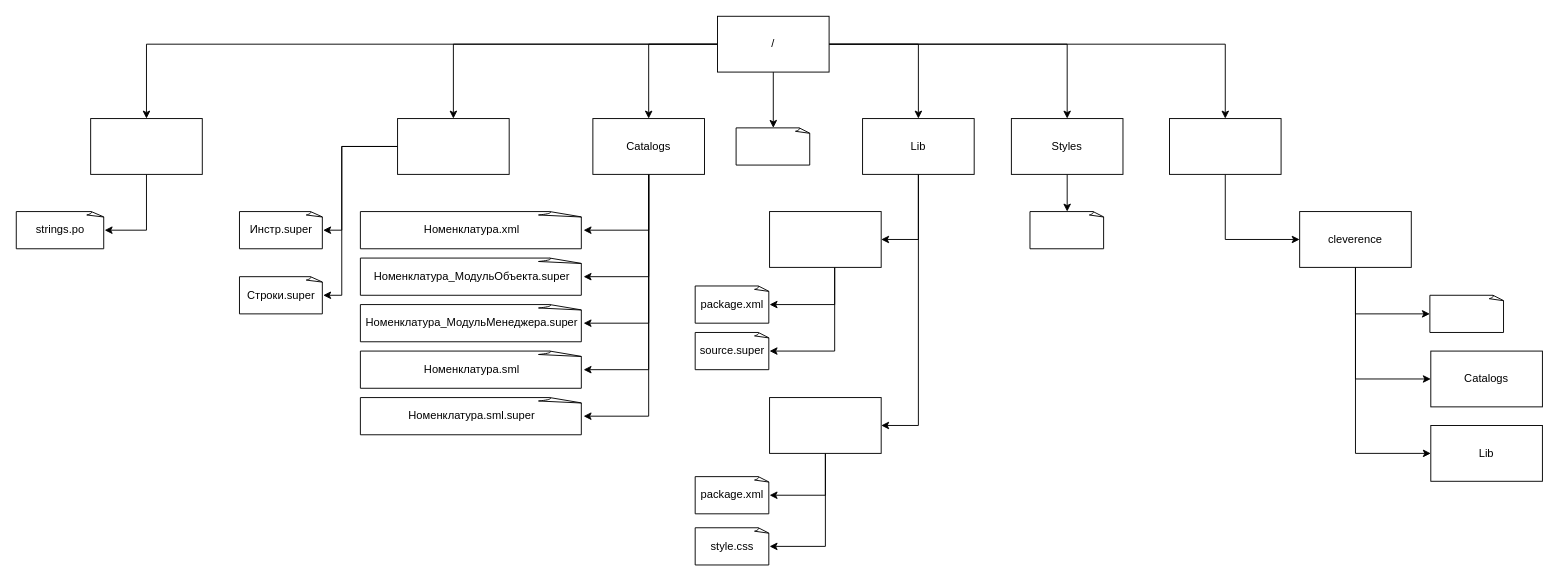
This 1559x581 diagram has some shape labels left out. The centre of each missing label's shape, as x and y in pixels:
BeautifulSup: the point at 825,425
CustomDir: the point at 453,146
extension.xml: the point at 1466,313
Extensions: the point at 1225,146
main.css: the point at 1066,230
project.xml: the point at 772,146
Strings: the point at 146,146
Underscore: the point at 825,239
